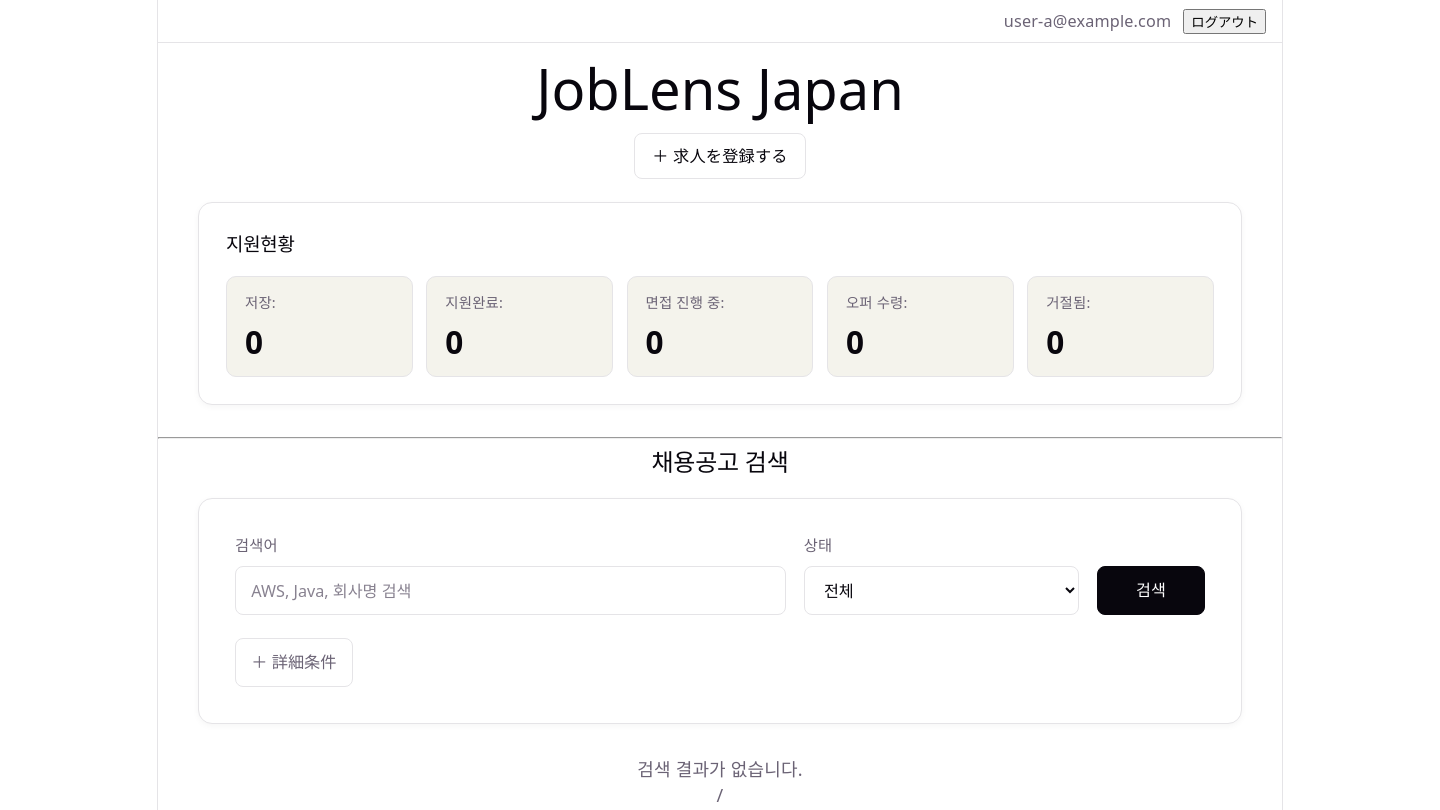
Scenario: ログアウトから次のログインまでのつながり › 로그아웃 직후 새로고침 없이 로그인해도 첫 시도에 새 토큰으로 성공한다
The width and height of the screenshot is (1440, 810).
Click the button "ログアウト" at (1225, 21), box [1183,8,1266,34]
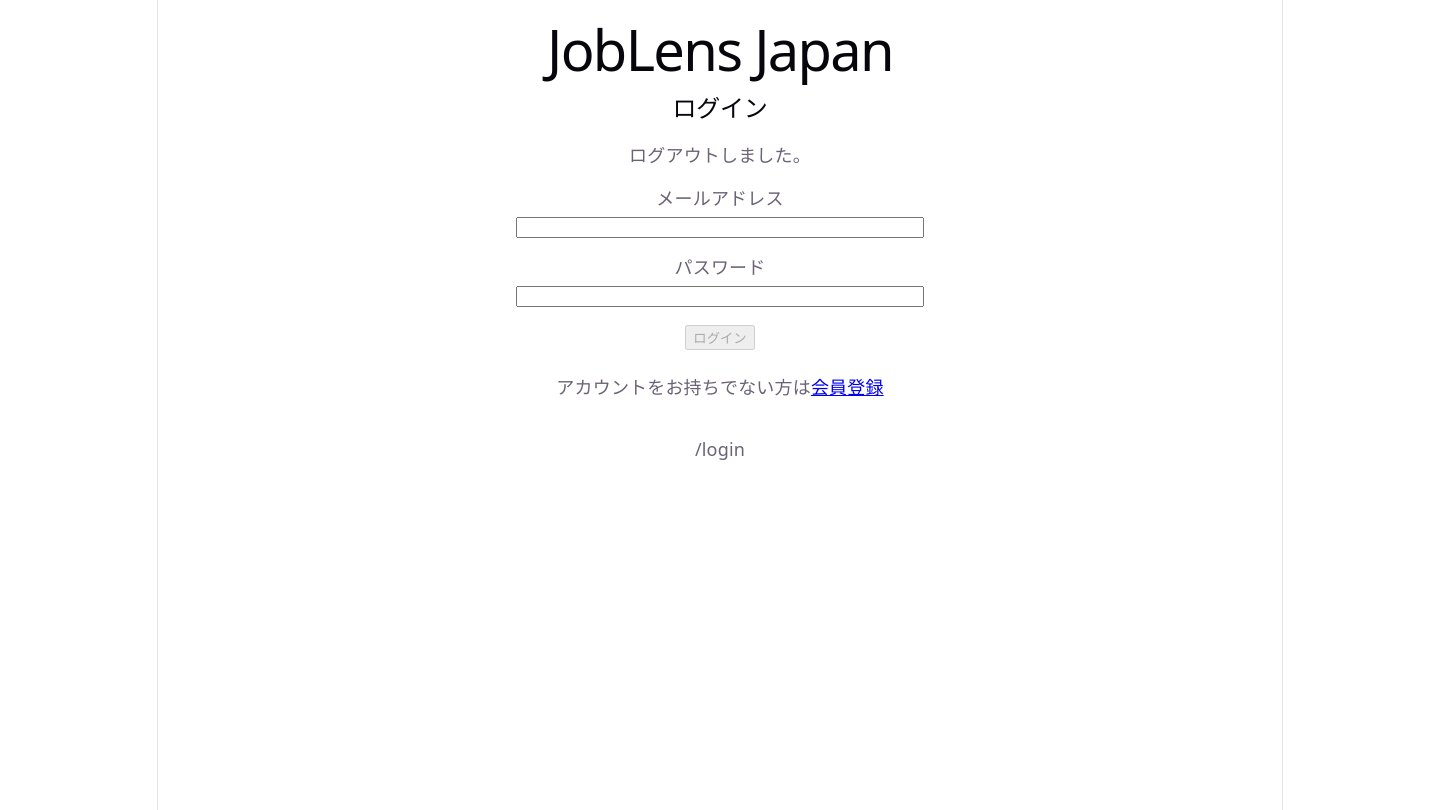
Expected: the text with test id "location" reads "/login", [695,437,745,461]
Expected: the text "ログアウトしました。" is shown, [629,143,811,167]
Type "user-b@example.com" into the field labelled "メールアドレス" at (720, 227), box [516,217,924,238]
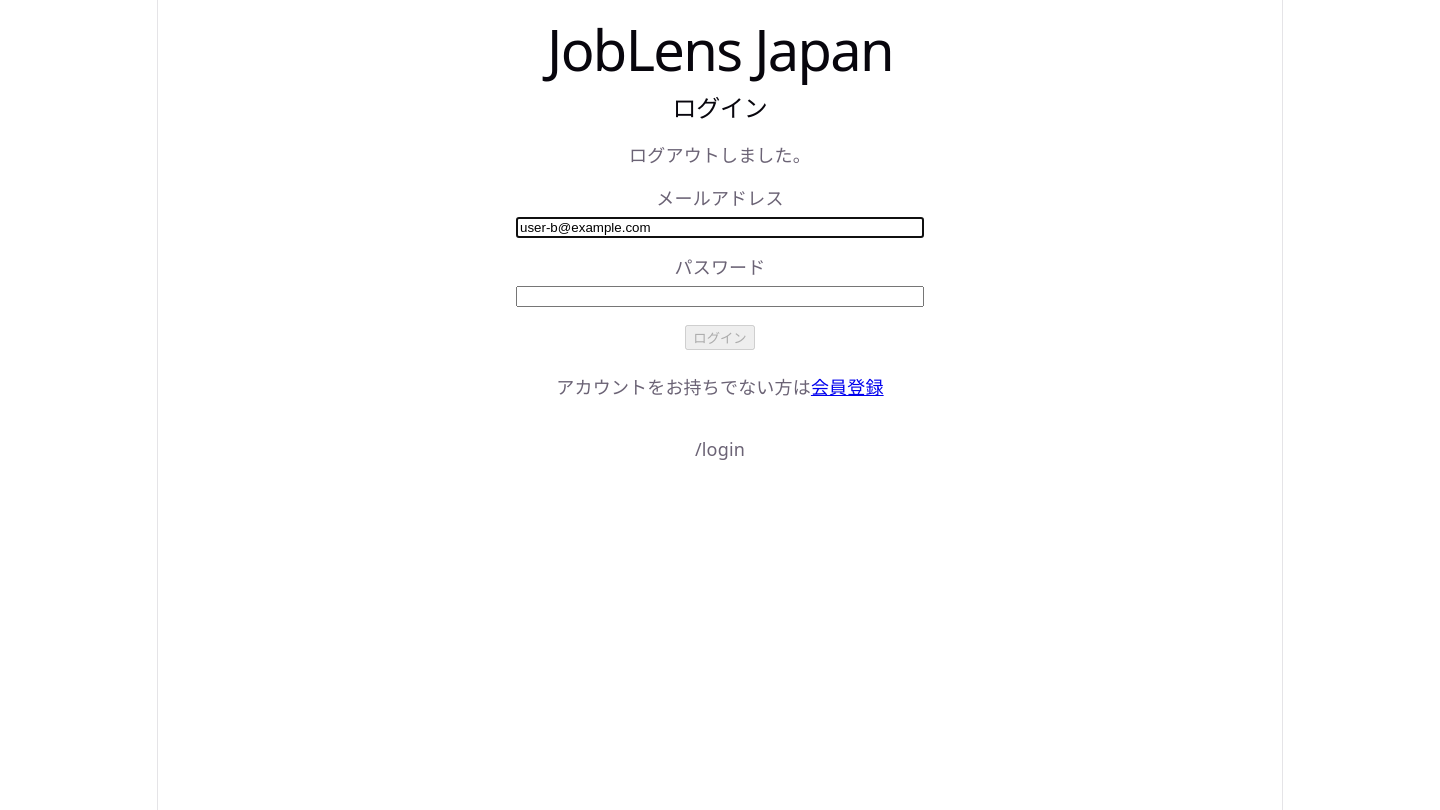
Type "password123" into the password field labelled "パスワード" at (720, 296), box [516,286,924,307]
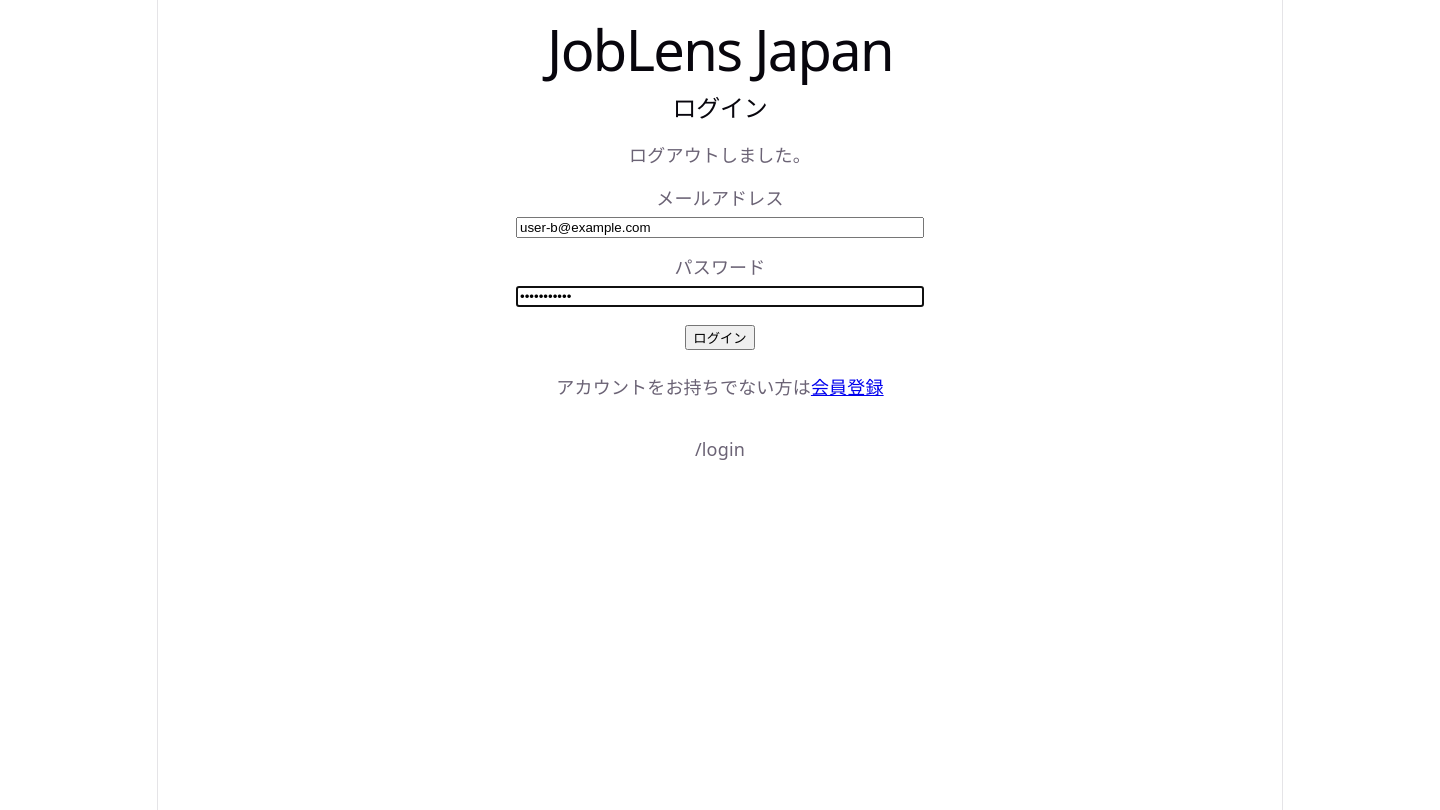
Click the button "ログイン" at (720, 337), box [685,325,755,350]
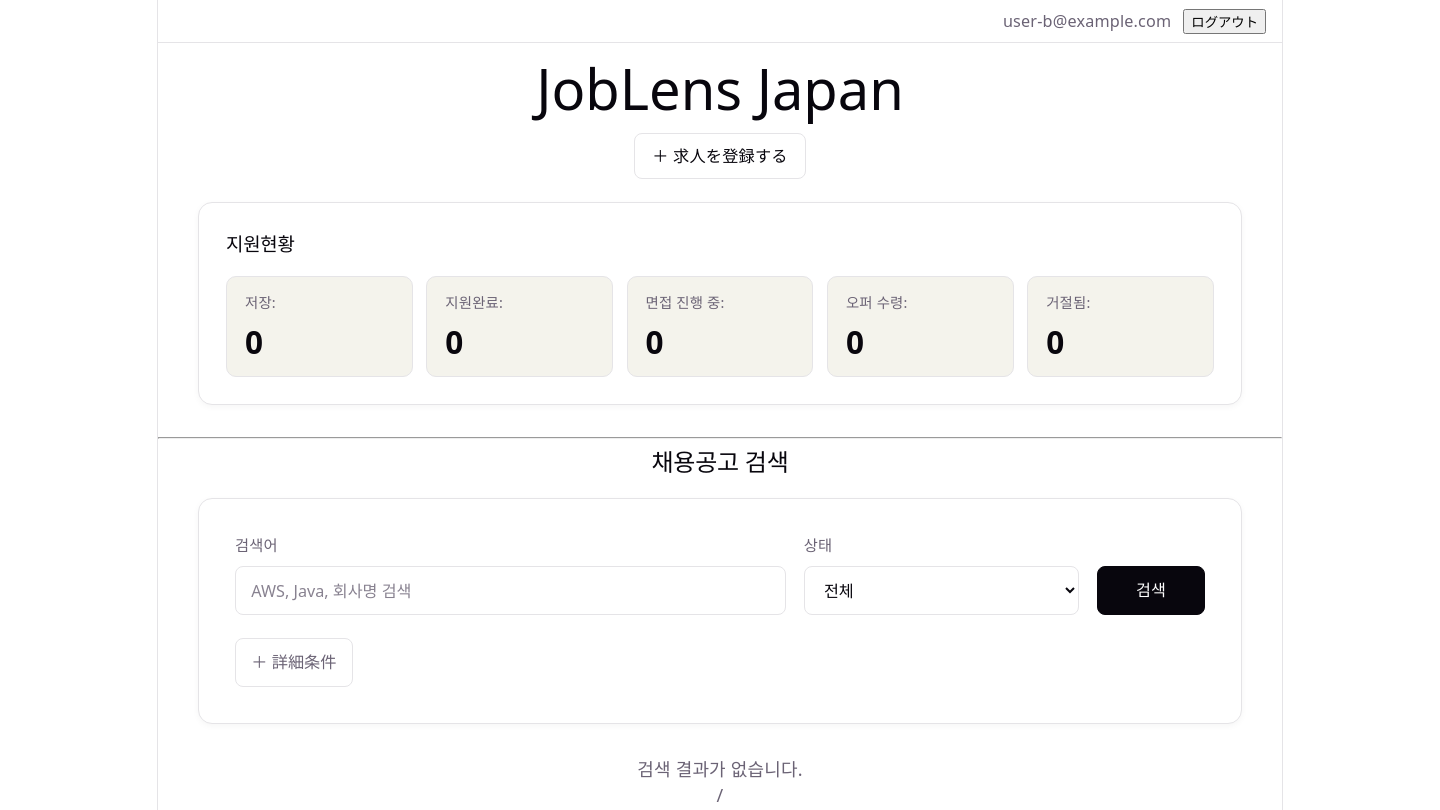
Expected: the text with test id "location" reads "/", [716,783,723,807]
Expected: the text "user-b@example.com" is shown, [1003,8,1171,34]
